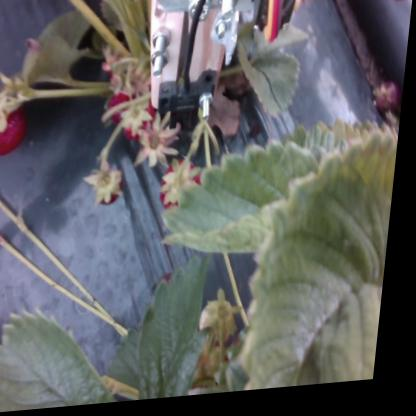ripe: (165, 165, 210, 213), (0, 101, 30, 154), (127, 105, 158, 139), (102, 171, 130, 205), (106, 92, 137, 119)
